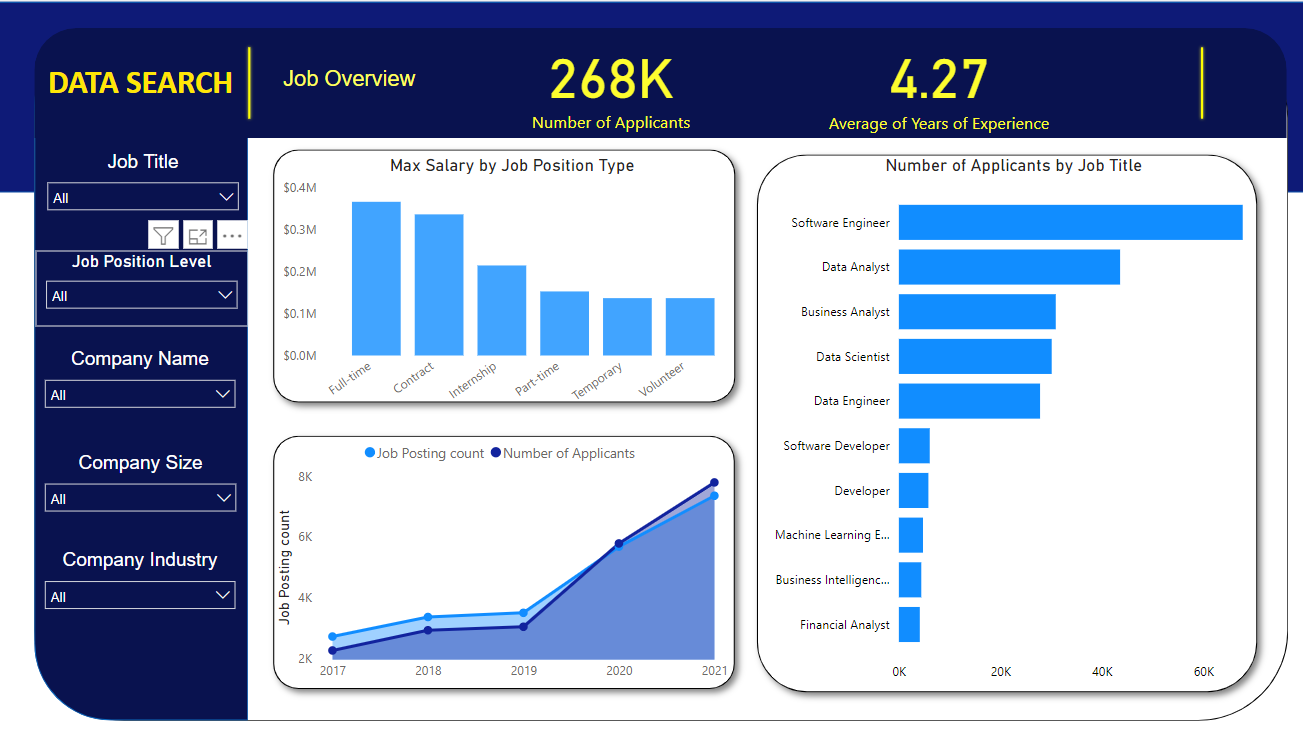

The dashboard page shown, as its layout file describes it:
{"tool":"powerbi","page":{"name":"Job Overview","canvas":[1280,720],"ordinal":1},"visuals":[{"type":"shape","box":[0,4.2,1280.3,186.7],"z":0},{"type":"shape","box":[35.7,28.8,1226.8,677.9],"z":1000},{"type":"shape","box":[35.5,29.3,209.1,677.4],"z":2000},{"type":"shape","box":[35.5,29.3,1225.3,107.6],"z":3000},{"type":"textbox","box":[35.1,57.6,207.8,53.3],"z":4000},{"type":"shape","box":[160,44.9,171.3,75.8],"z":5000},{"type":"slicer","title":"Company Name","fields":{"Values":["job_postings.Company Name"]},"box":[35.5,342.4,206.7,74.6],"z":6000},{"type":"slicer","title":"Job Title","fields":{"Values":["job_postings.Job Title"]},"box":[37.9,149.2,207.9,77],"z":7000},{"type":"slicer","title":"Job Position Level","fields":{"Values":["job_postings.Job Position Level"]},"box":[36.7,247,207.9,74.6],"z":8000},{"type":"slicer","title":"Company Size","fields":{"Values":["job_postings.Company Size"]},"box":[35.5,443.9,207.9,73.4],"z":9000},{"type":"slicer","title":"Company Industry","fields":{"Values":["job_postings.Company Industry"]},"box":[35.5,539.3,206.7,75.8],"z":10000},{"type":"shape","box":[731.8,142.4,511.8,548.5],"z":11000},{"type":"shape","box":[1076.4,44.9,203.6,75.8],"z":12000},{"type":"shape","box":[258,137,474.5,270],"z":13000},{"type":"shape","box":[258,417,474,270.2],"z":14000},{"type":"textbox","box":[273.9,62.4,151.6,35.5],"z":15000},{"type":"clusteredColumnChart","fields":{"Category":["job_postings.Job Position Type"],"Y":["job_postings.Max Salary"]},"box":[273.5,152.3,458.3,265.1],"z":16000},{"type":"lineChart","fields":{"Category":["job_postings.Posting year"],"Y2":["Sum(job_postings.Number of Applicants)"],"Y":["CountNonNull(job_postings.Job Posting ID)"]},"box":[266.6,424.3,452.4,251.9],"z":17000},{"type":"card","fields":{"Values":["Sum(job_postings.Number of Applicants)"]},"box":[509.9,28.1,179.8,108.8],"z":18000},{"type":"card","fields":{"Values":["Avg(job_postings.Years of Experience)"]},"box":[804.6,28.1,232.3,110.1],"z":19000},{"type":"clusteredBarChart","fields":{"Category":["job_postings.Job Title"],"Y":["Sum(job_postings.Number of Applicants)"]},"box":[743.1,152.3,500.6,524.5],"z":20000}]}

Visuals, with their boxes in screenshot pixels (x1, y1, x2, y2), scaled from the page's 1280x720 canvas onto the 1303x731 screenshot:
shape: bbox=[0, 4, 1302, 194]
shape: bbox=[36, 29, 1285, 717]
shape: bbox=[36, 30, 249, 717]
shape: bbox=[36, 30, 1283, 139]
textbox: bbox=[36, 58, 247, 113]
shape: bbox=[163, 46, 337, 123]
"Company Name" slicer: bbox=[36, 348, 247, 423]
"Job Title" slicer: bbox=[39, 151, 250, 230]
"Job Position Level" slicer: bbox=[37, 251, 249, 327]
"Company Size" slicer: bbox=[36, 451, 248, 525]
"Company Industry" slicer: bbox=[36, 548, 247, 624]
shape: bbox=[745, 145, 1266, 701]
shape: bbox=[1096, 46, 1302, 123]
shape: bbox=[263, 139, 746, 413]
shape: bbox=[263, 423, 745, 698]
textbox: bbox=[279, 63, 433, 99]
clusteredColumnChart - job_postings.Job Position Type x job_postings.Max Salary: bbox=[278, 155, 745, 424]
lineChart - job_postings.Posting year x Sum(job_postings.Number of Applicants): bbox=[271, 431, 732, 687]
card - Sum(job_postings.Number of Applicants): bbox=[519, 29, 702, 139]
card - Avg(job_postings.Years of Experience): bbox=[819, 29, 1056, 140]
clusteredBarChart - job_postings.Job Title x Sum(job_postings.Number of Applicants): bbox=[756, 155, 1266, 687]
